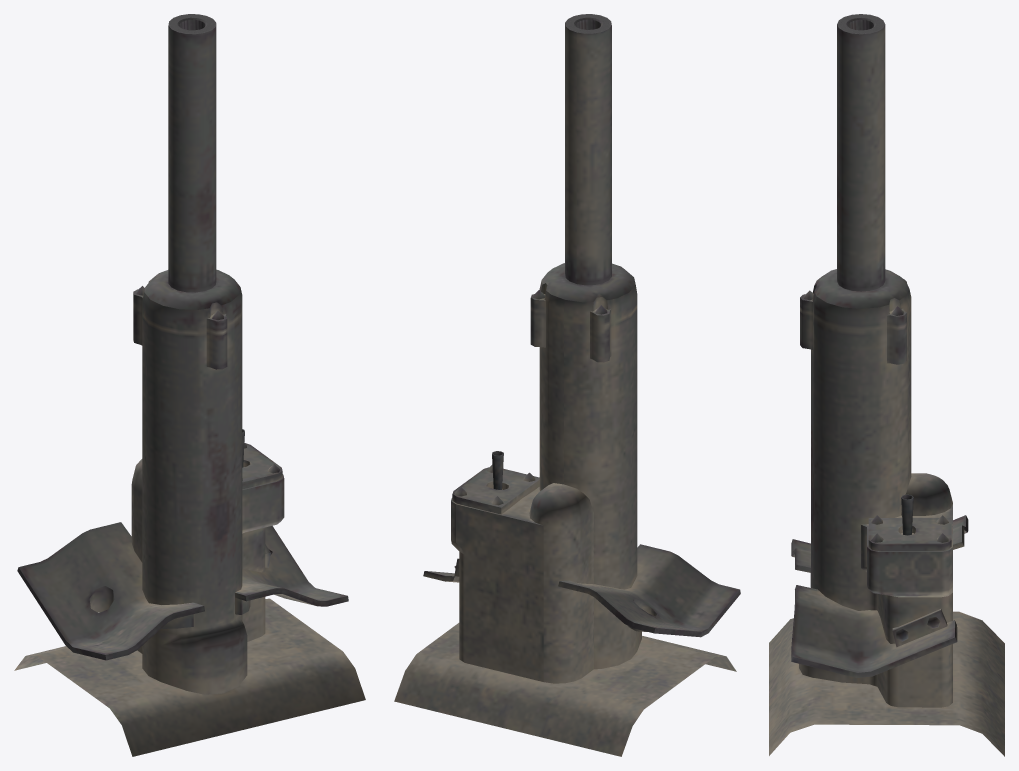
The model's file is Gun_01.glb.
3 renders of one model, left to right at view 1: azimuth 30°, elevation 25°; view 2: azimuth 150°, elevation 25°; view 3: azimuth 270°, elevation 25°, orthographic. The views are drawn at different scales.
Visible parts, largest first — view 1: set_0_group_0; view 2: set_0_group_0; view 3: set_0_group_0.
Part boxes in pixels (<box>): set_0_group_0: <box>14,14,365,756</box>; set_0_group_0: <box>394,14,740,756</box>; set_0_group_0: <box>769,14,1004,756</box>.
Size of the model in its own units: 0.4035 by 1.05 by 0.3331.
Materials: 1 (1 with a texture image).
